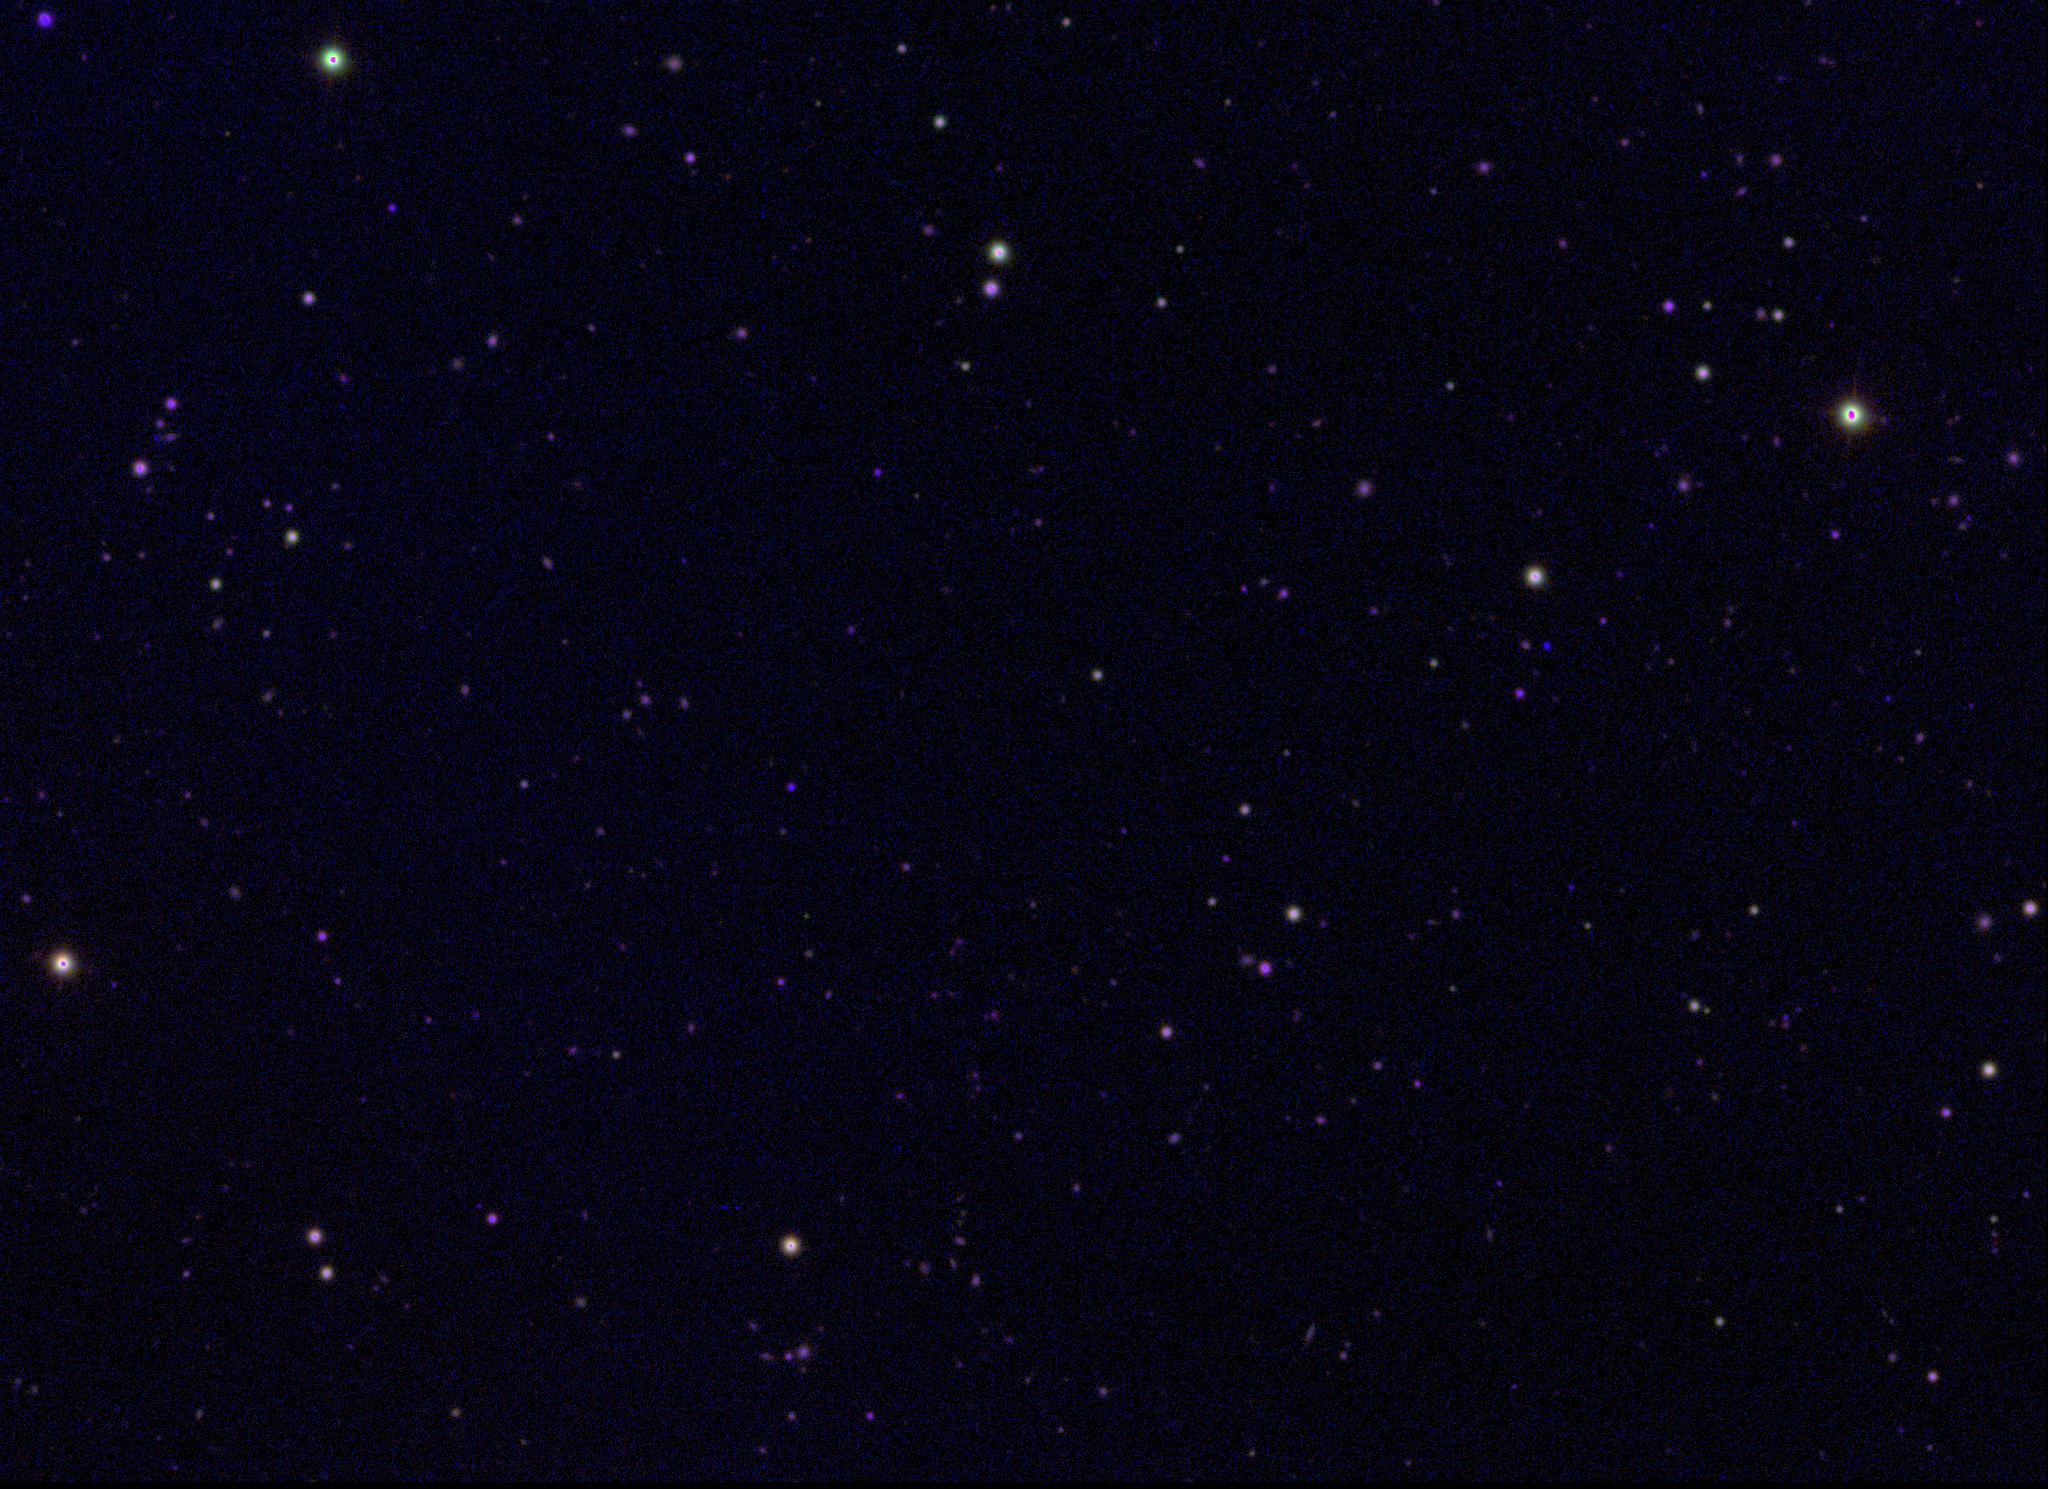L: (1538, 636, 1552, 651)
